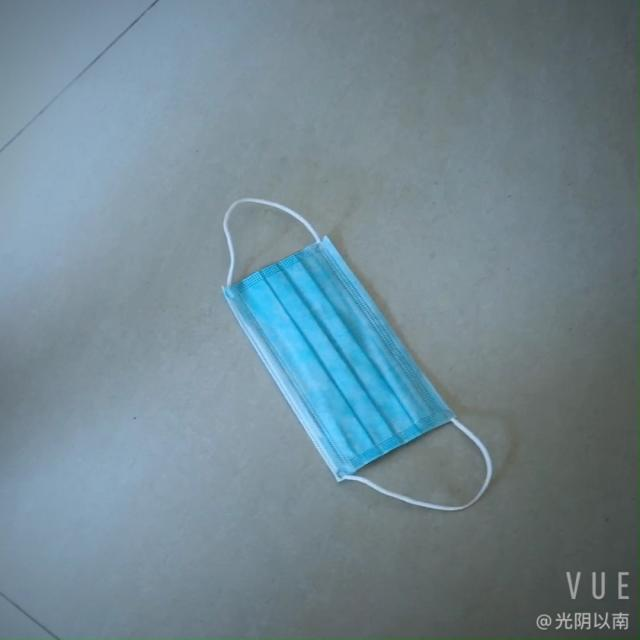face mask: (216, 232, 458, 471)
